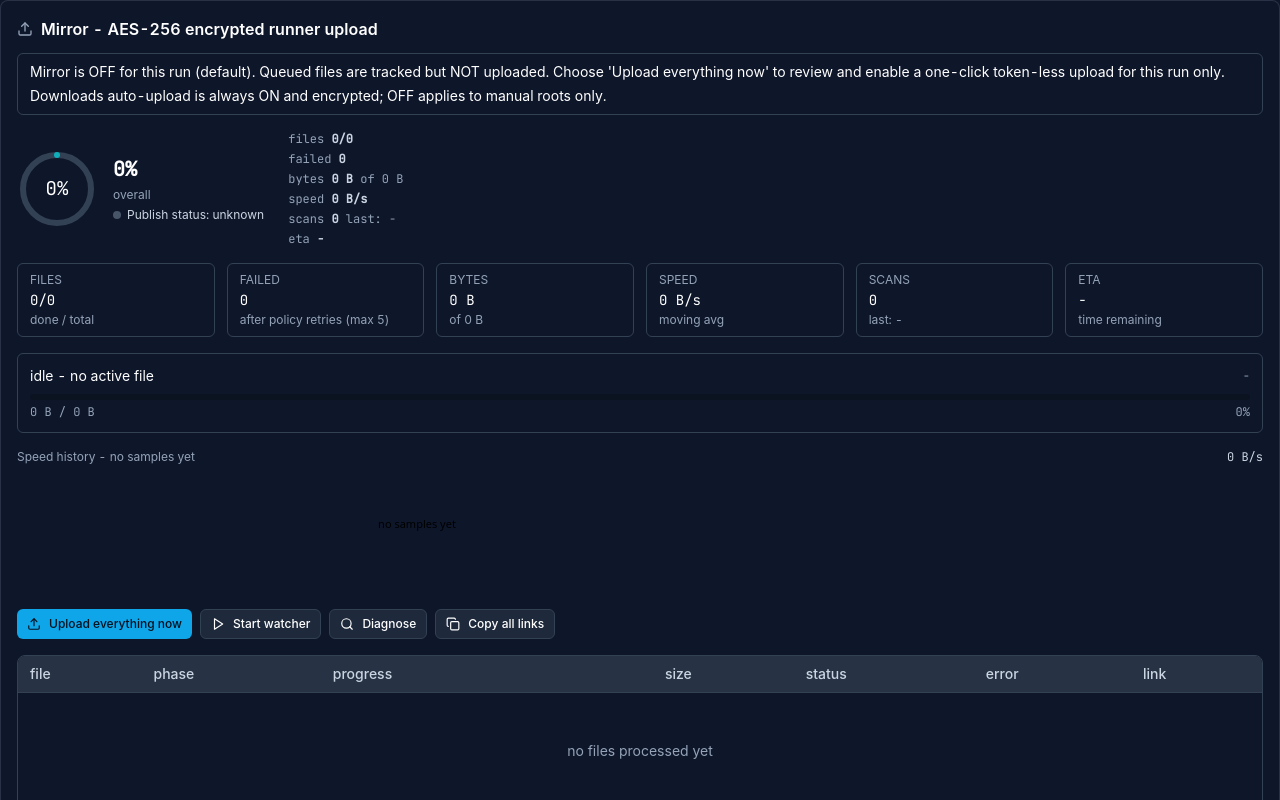
Test: F49 disabled banner + ConfirmModal › [Enable & Upload] POSTs enable with dash token + CSRF, then closes
Expected: the message with test id "mirror-disabled-banner" is shown, [17,53,1263,115]
Click the button "Upload everything now" at [104, 624], box [17,609,192,639]
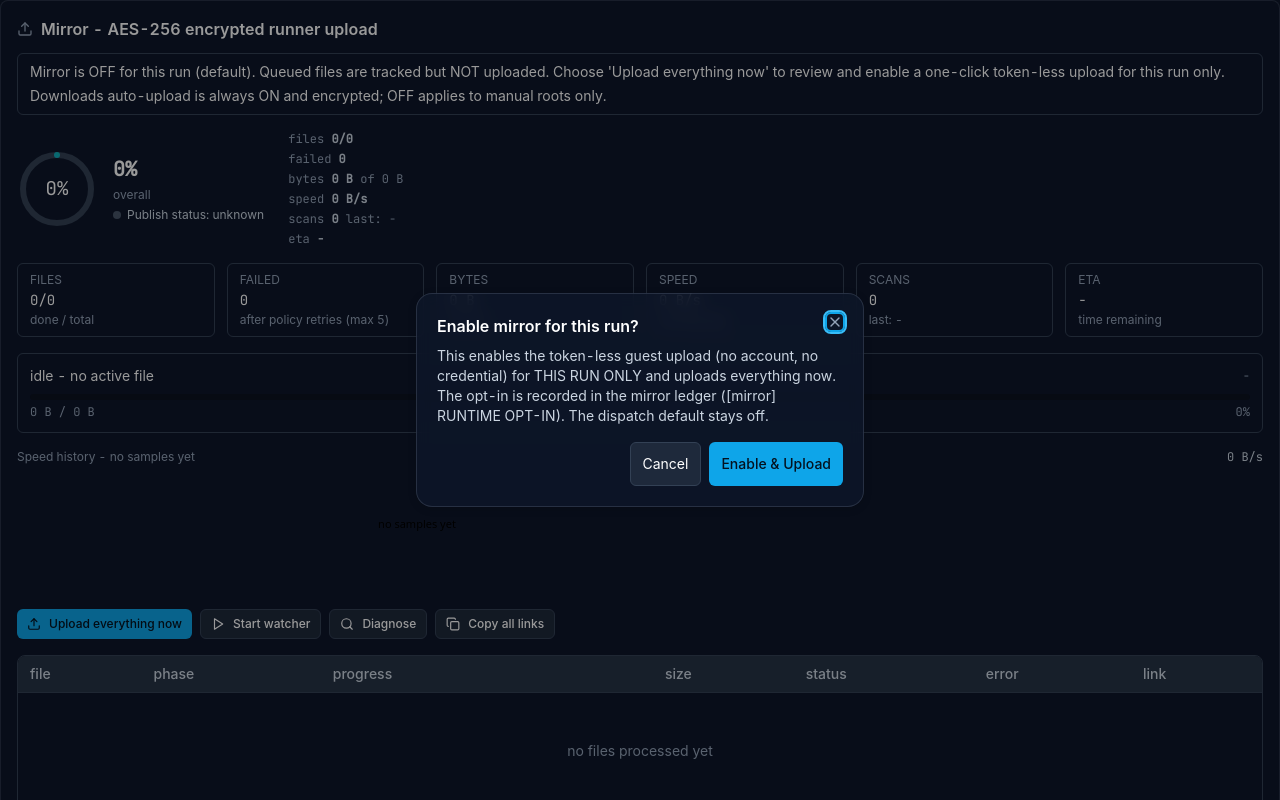
Result: the dialog is shown at [416,293,864,507]
Click the button "Enable & Upload" at [776, 464], box [709,442,843,486]
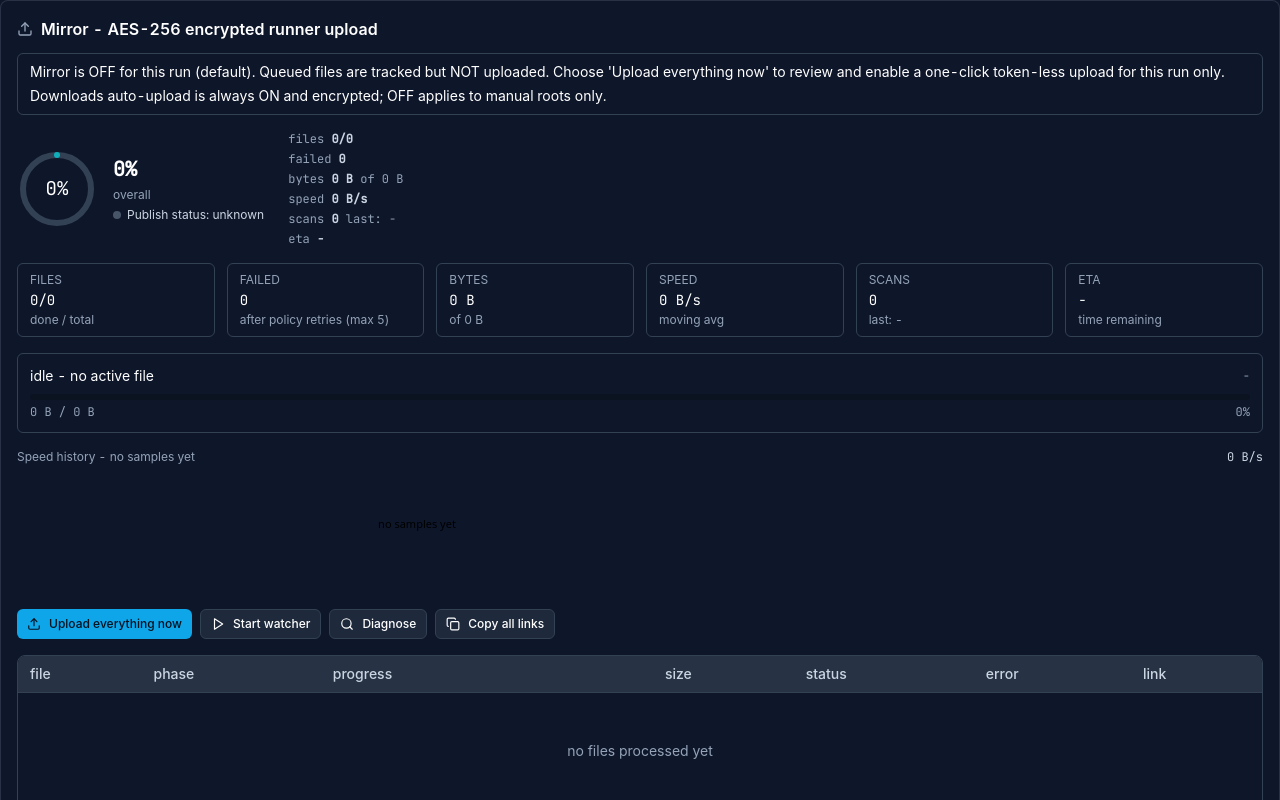
Result: the dialog is gone
